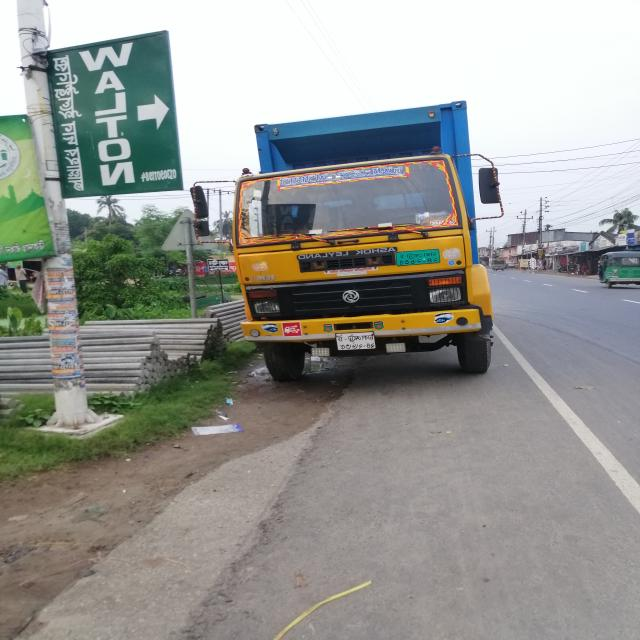Truck: (184, 86, 512, 390)
